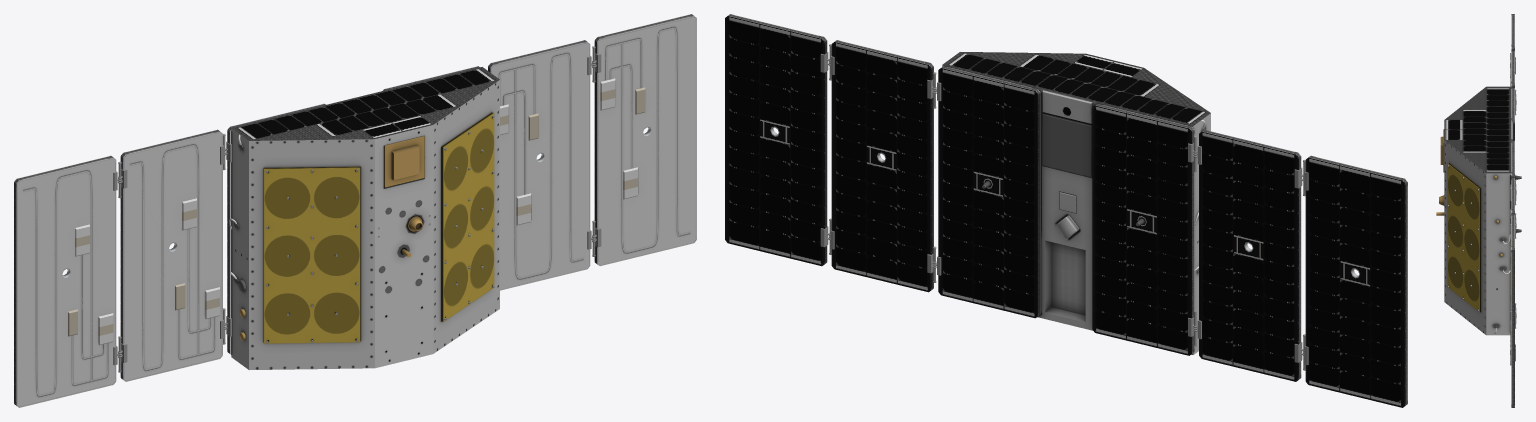
Rendered from Cyclone Global Navigation Satellite System (CYGNSS).glb.
3 renders of one model, left to right at view 1: azimuth 30°, elevation 25°; view 2: azimuth 150°, elevation 25°; view 3: azimuth 270°, elevation 25°, orthographic. The views are drawn at different scales.
Visible parts, largest first — view 1: BUS, array_right3, array_left2, array_right1, array_left1, array_left2_instruments, array_right2_instruments, array_right1_instruments, array_left1_instruments; view 2: BUS, array_right3, array_left2, array_left1, array_right1; view 3: BUS, array_left2, array_left1, array_right1, array_right3, array_left2_instruments, hinges_left2_left, hinges_left1_left.
Boxes of the visible parts, x1,y1,x2,y2 form: BUS: (227, 66, 499, 370); array_right3: (14, 155, 116, 407); array_left2: (594, 14, 696, 266); array_right1: (120, 129, 222, 381); array_left1: (488, 40, 590, 290); array_left2_instruments: (600, 78, 645, 199); array_right2_instruments: (68, 224, 113, 345); array_right1_instruments: (175, 198, 219, 319); array_left1_instruments: (500, 104, 538, 225); BUS: (938, 52, 1210, 355); array_right3: (1305, 155, 1407, 407); array_left2: (725, 14, 827, 266); array_left1: (831, 40, 933, 292); array_right1: (1199, 129, 1301, 381); BUS: (1436, 86, 1521, 335); array_left2: (1511, 214, 1514, 407); array_left1: (1511, 177, 1514, 214); array_right1: (1511, 50, 1514, 87); array_right3: (1511, 14, 1514, 50); array_left2_instruments: (1510, 245, 1511, 344); hinges_left2_left: (1510, 216, 1515, 365); hinges_left1_left: (1510, 187, 1516, 324).
Bounding box in the file's own units: 1.59 × 0.5121 × 0.2442.
Materials: 6 (1 with a texture image).
